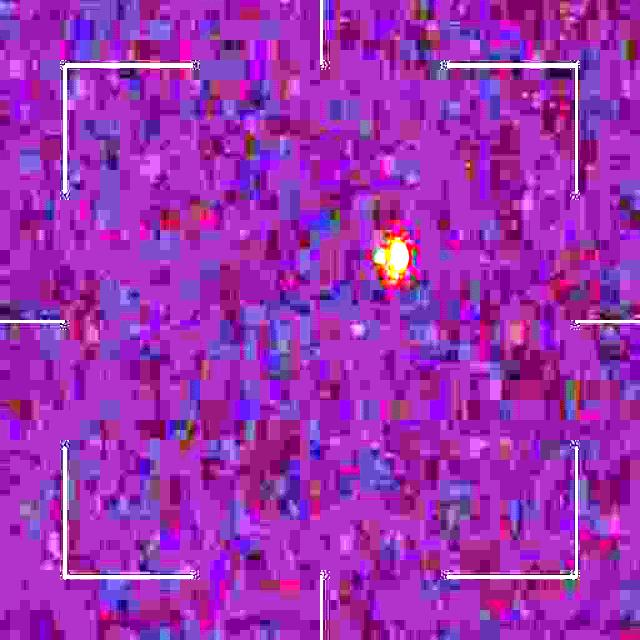bird: (374, 232, 411, 285)
